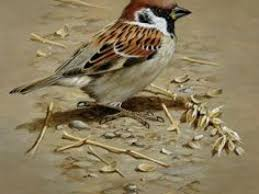home_sparrow: (7, 2, 196, 115)
